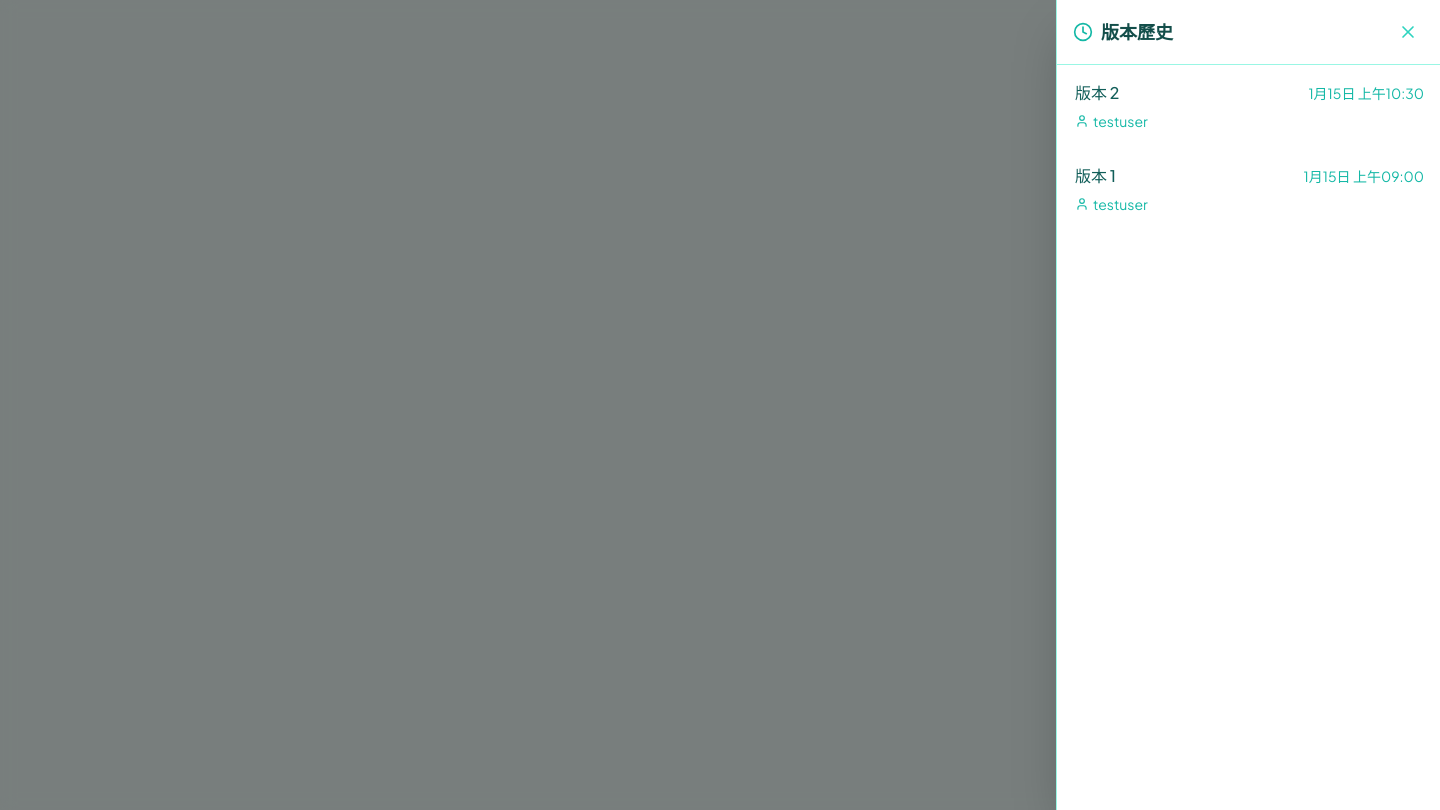
Scenario: VersionHistoryPanel › should show restore button when version is selected
Click the text "版本 2".
click(1097, 93)  # box [1075,81,1119,105]
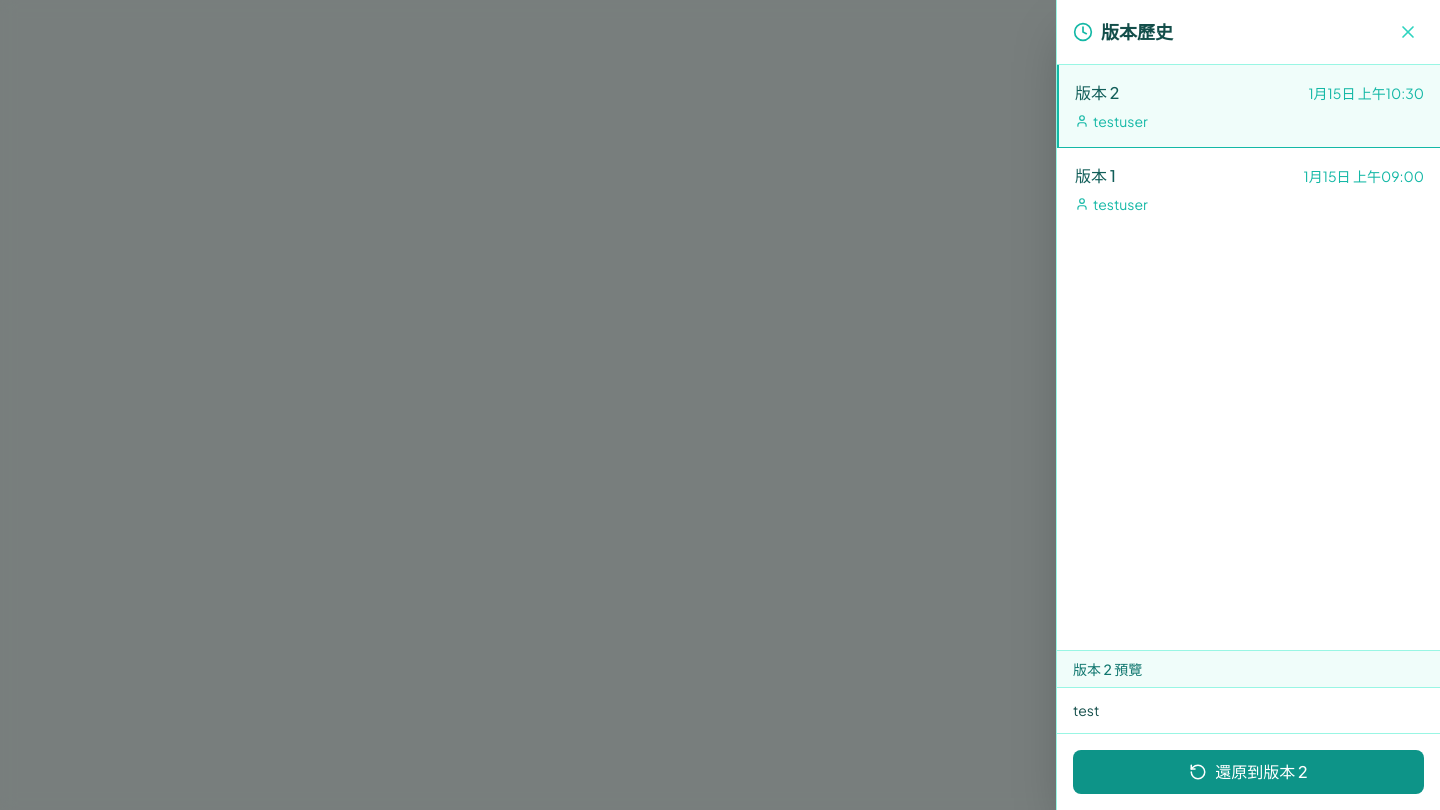
Now the text "還原到版本 2" is shown, box [1215,760,1308,784]
